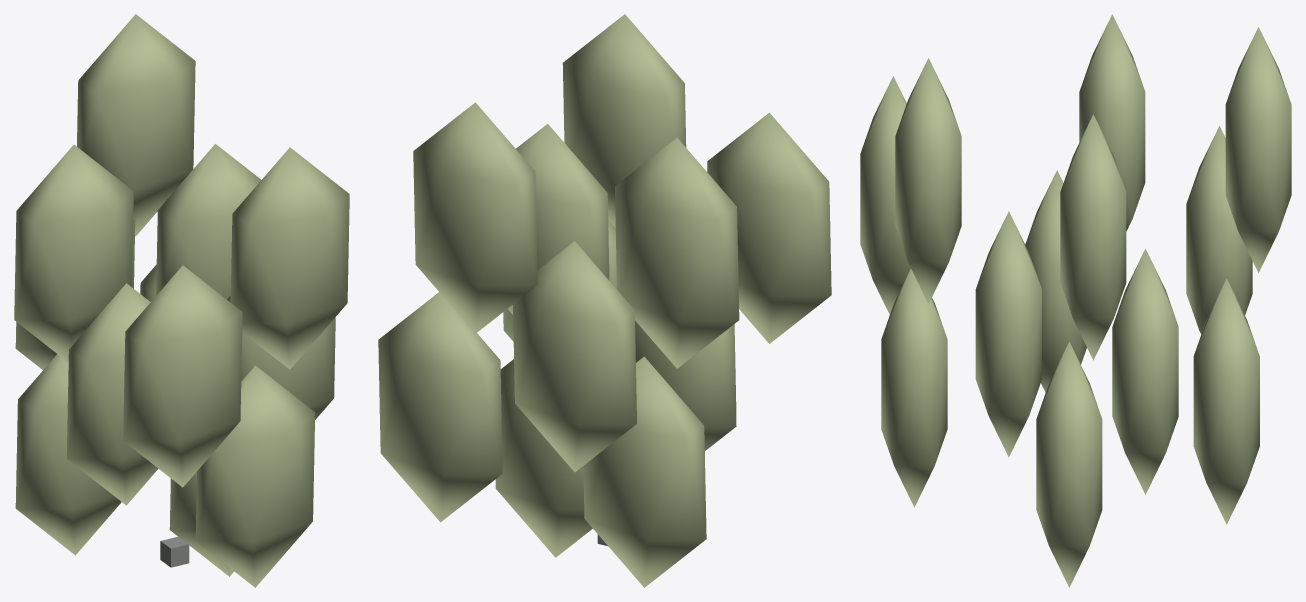
Rendered from arizona-prickly-pear_lod0.glb.
The picture shows the model from 3 angles, left to right: view 1: azimuth 30°, elevation 25°; view 2: azimuth 150°, elevation 25°; view 3: azimuth 270°, elevation 25°; orthographic projection. The views are drawn at different scales.
Parts seen in each view (by area): view 1: RF_CactusPad.007, RF_CactusPad.010, RF_CactusPad.009, RF_CactusPad.002, RF_CactusPad.011, RF_CactusPad.004, RF_CactusPad.001, RF_CactusPad.008, RF_CactusPad.005, RF_CactusPad, RF_CactusPad.006, RF_DetailBolt; view 2: RF_CactusPad.011, RF_CactusPad.003, RF_CactusPad.009, RF_CactusPad.006, RF_CactusPad.007, RF_CactusPad.001, RF_CactusPad.010, RF_CactusPad, RF_CactusPad.008, RF_CactusPad.004, RF_CactusPad.005; view 3: RF_CactusPad.011, RF_CactusPad.001, RF_CactusPad.003, RF_CactusPad.005, RF_CactusPad.010, RF_CactusPad, RF_CactusPad.008, RF_CactusPad.002, RF_CactusPad.006, RF_CactusPad.009, RF_CactusPad.007, RF_CactusPad.004.
Boxes of the visible parts, left/top/right/bottom form: RF_CactusPad.007: left=123, top=265, right=242, bottom=487; RF_CactusPad.010: left=230, top=147, right=349, bottom=369; RF_CactusPad.009: left=14, top=144, right=133, bottom=362; RF_CactusPad.002: left=195, top=365, right=315, bottom=587; RF_CactusPad.011: left=77, top=14, right=195, bottom=236; RF_CactusPad.004: left=66, top=283, right=158, bottom=505; RF_CactusPad.001: left=15, top=354, right=121, bottom=555; RF_CactusPad.008: left=156, top=144, right=261, bottom=299; RF_CactusPad.005: left=227, top=296, right=335, bottom=419; RF_CactusPad: left=169, top=472, right=233, bottom=576; RF_CactusPad.006: left=15, top=219, right=135, bottom=369; RF_DetailBolt: left=160, top=536, right=189, bottom=567; RF_CactusPad.011: left=413, top=102, right=537, bottom=333; RF_CactusPad.003: left=378, top=292, right=502, bottom=522; RF_CactusPad.009: left=615, top=137, right=739, bottom=368; RF_CactusPad.006: left=513, top=241, right=636, bottom=472; RF_CactusPad.007: left=707, top=112, right=831, bottom=343; RF_CactusPad.001: left=583, top=356, right=706, bottom=587; RF_CactusPad.010: left=562, top=14, right=686, bottom=227; RF_CactusPad: left=495, top=359, right=592, bottom=557; RF_CactusPad.008: left=508, top=124, right=609, bottom=314; RF_CactusPad.004: left=635, top=321, right=736, bottom=450; RF_CactusPad.005: left=503, top=220, right=616, bottom=341; RF_CactusPad.011: left=1225, top=27, right=1291, bottom=272; RF_CactusPad.001: left=1112, top=249, right=1178, bottom=494; RF_CactusPad.003: left=1193, top=278, right=1259, bottom=524; RF_CactusPad.005: left=975, top=211, right=1041, bottom=457; RF_CactusPad.010: left=895, top=58, right=961, bottom=303; RF_CactusPad: left=1036, top=341, right=1102, bottom=587; RF_CactusPad.008: left=1060, top=114, right=1126, bottom=360; RF_CactusPad.002: left=881, top=269, right=947, bottom=507; RF_CactusPad.006: left=1186, top=126, right=1252, bottom=333; RF_CactusPad.009: left=1079, top=14, right=1145, bottom=231; RF_CactusPad.007: left=860, top=76, right=910, bottom=314; RF_CactusPad.004: left=1025, top=170, right=1086, bottom=392.
Bounding box in the file's own units: 0.9719 × 1.58 × 1.11.
